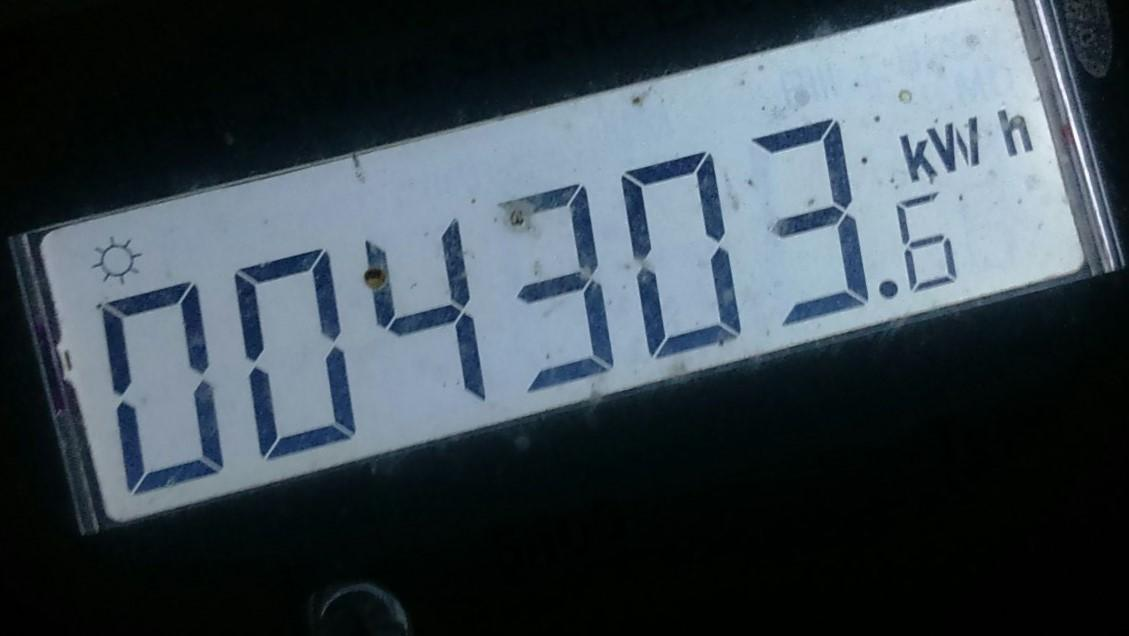.: (897, 106, 1035, 194)
0: (877, 259, 914, 314)
1: (217, 225, 372, 463), (106, 273, 218, 531), (614, 125, 727, 372)
4: (737, 105, 878, 327), (489, 167, 624, 398)
5: (359, 191, 492, 422)
7: (893, 191, 970, 294)
